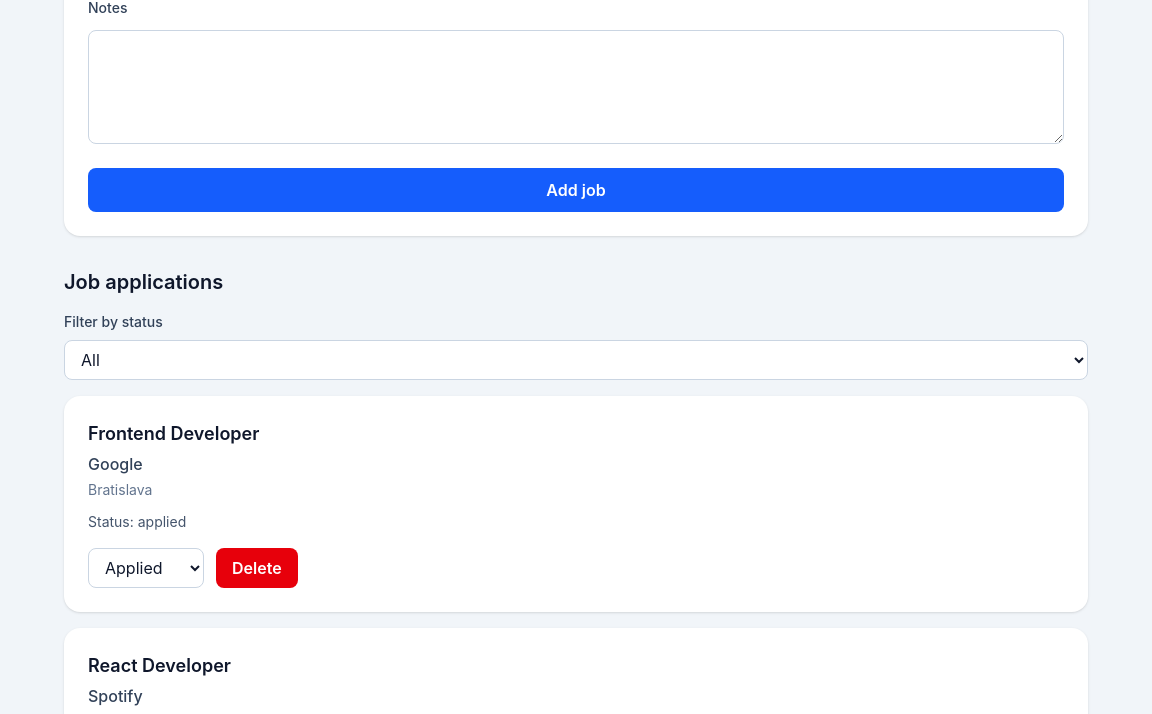
Test: filters jobs by status
The image size is (1152, 714).
(page scrolled)
Select "Interview" in the dropdown labelled "Filter by status" at (576, 360), box [64, 340, 1088, 380]
(page scrolled)
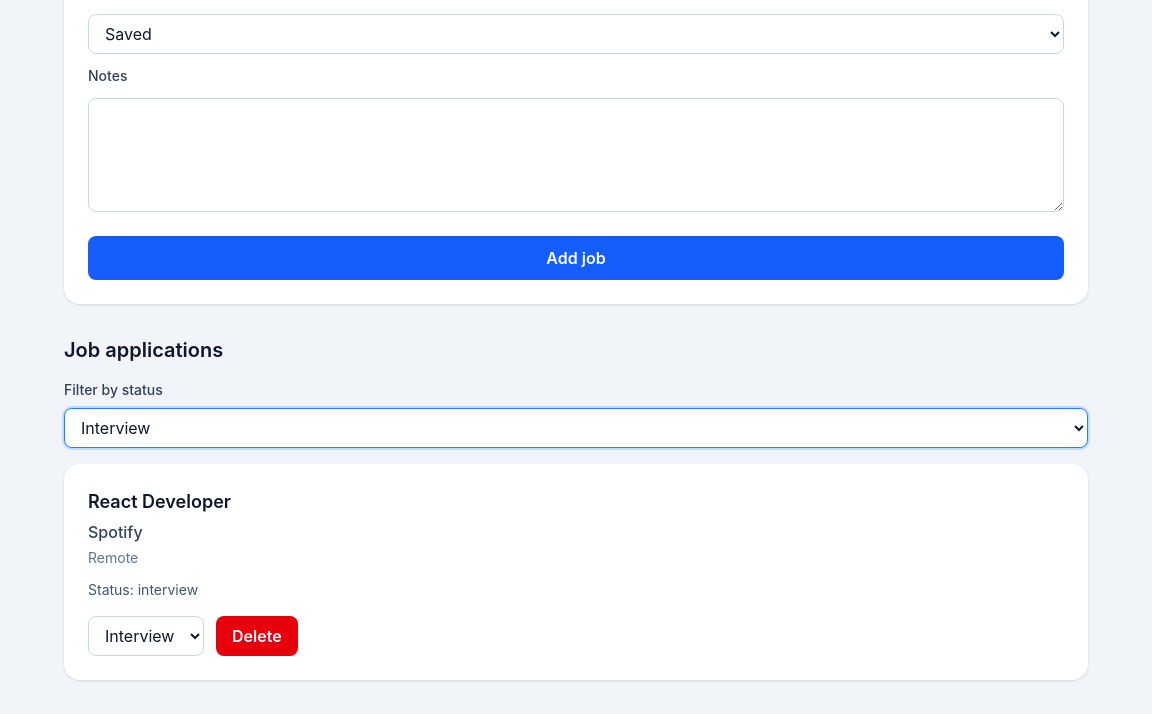
Check: the heading "React Developer" is shown, box [88, 491, 231, 512]
Check: the heading "Frontend Developer" is gone
